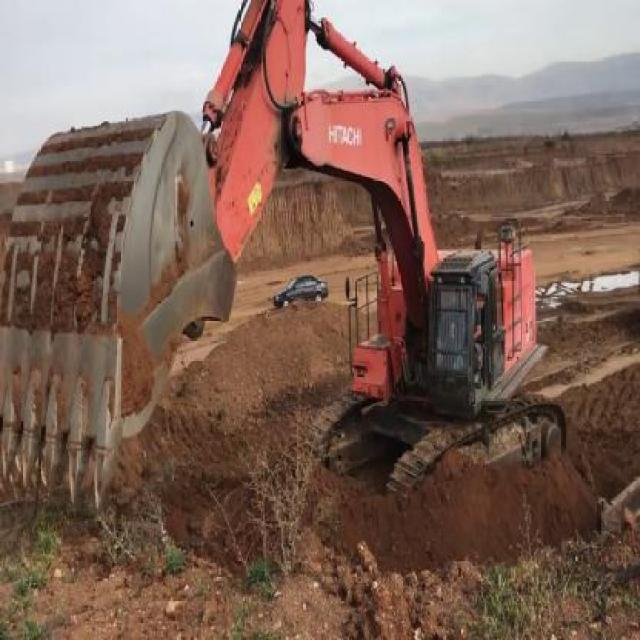Excavator: (1, 0, 567, 509)
